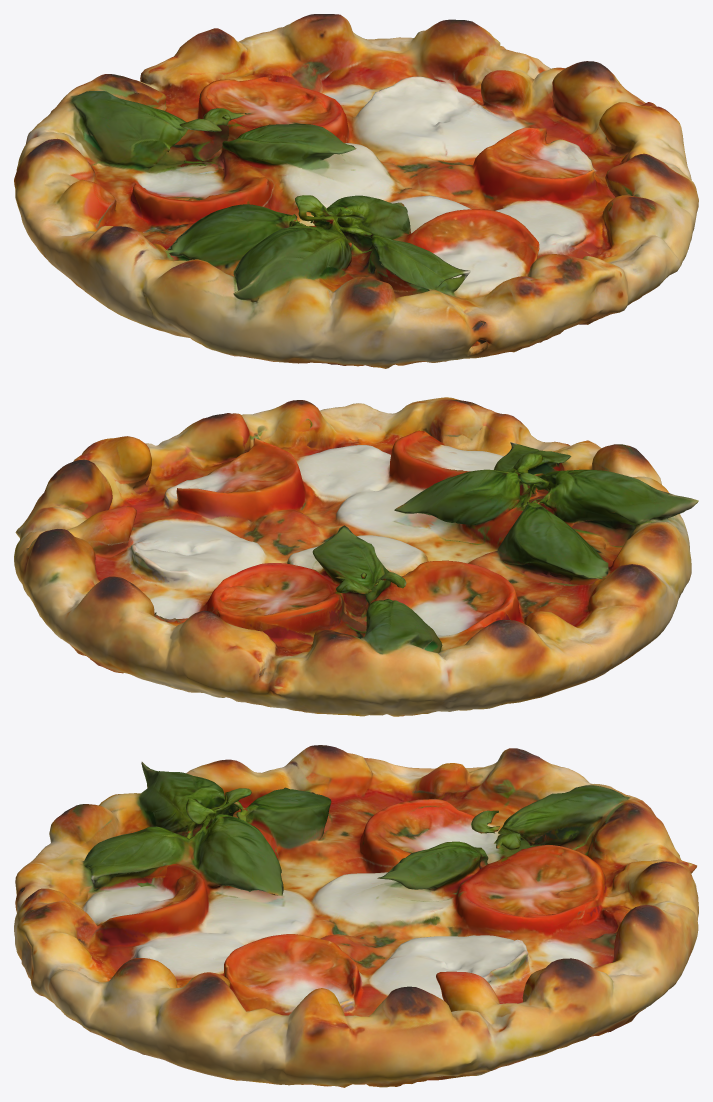
File: video-to-3d-2.glb
3 views of the same model, one above another, from view 1: azimuth 30°, elevation 25°; view 2: azimuth 150°, elevation 25°; view 3: azimuth 270°, elevation 25° (orthographic).
Size of the model in its own units: 2 by 0.3918 by 2.
Materials: 1 (1 with a texture image).
